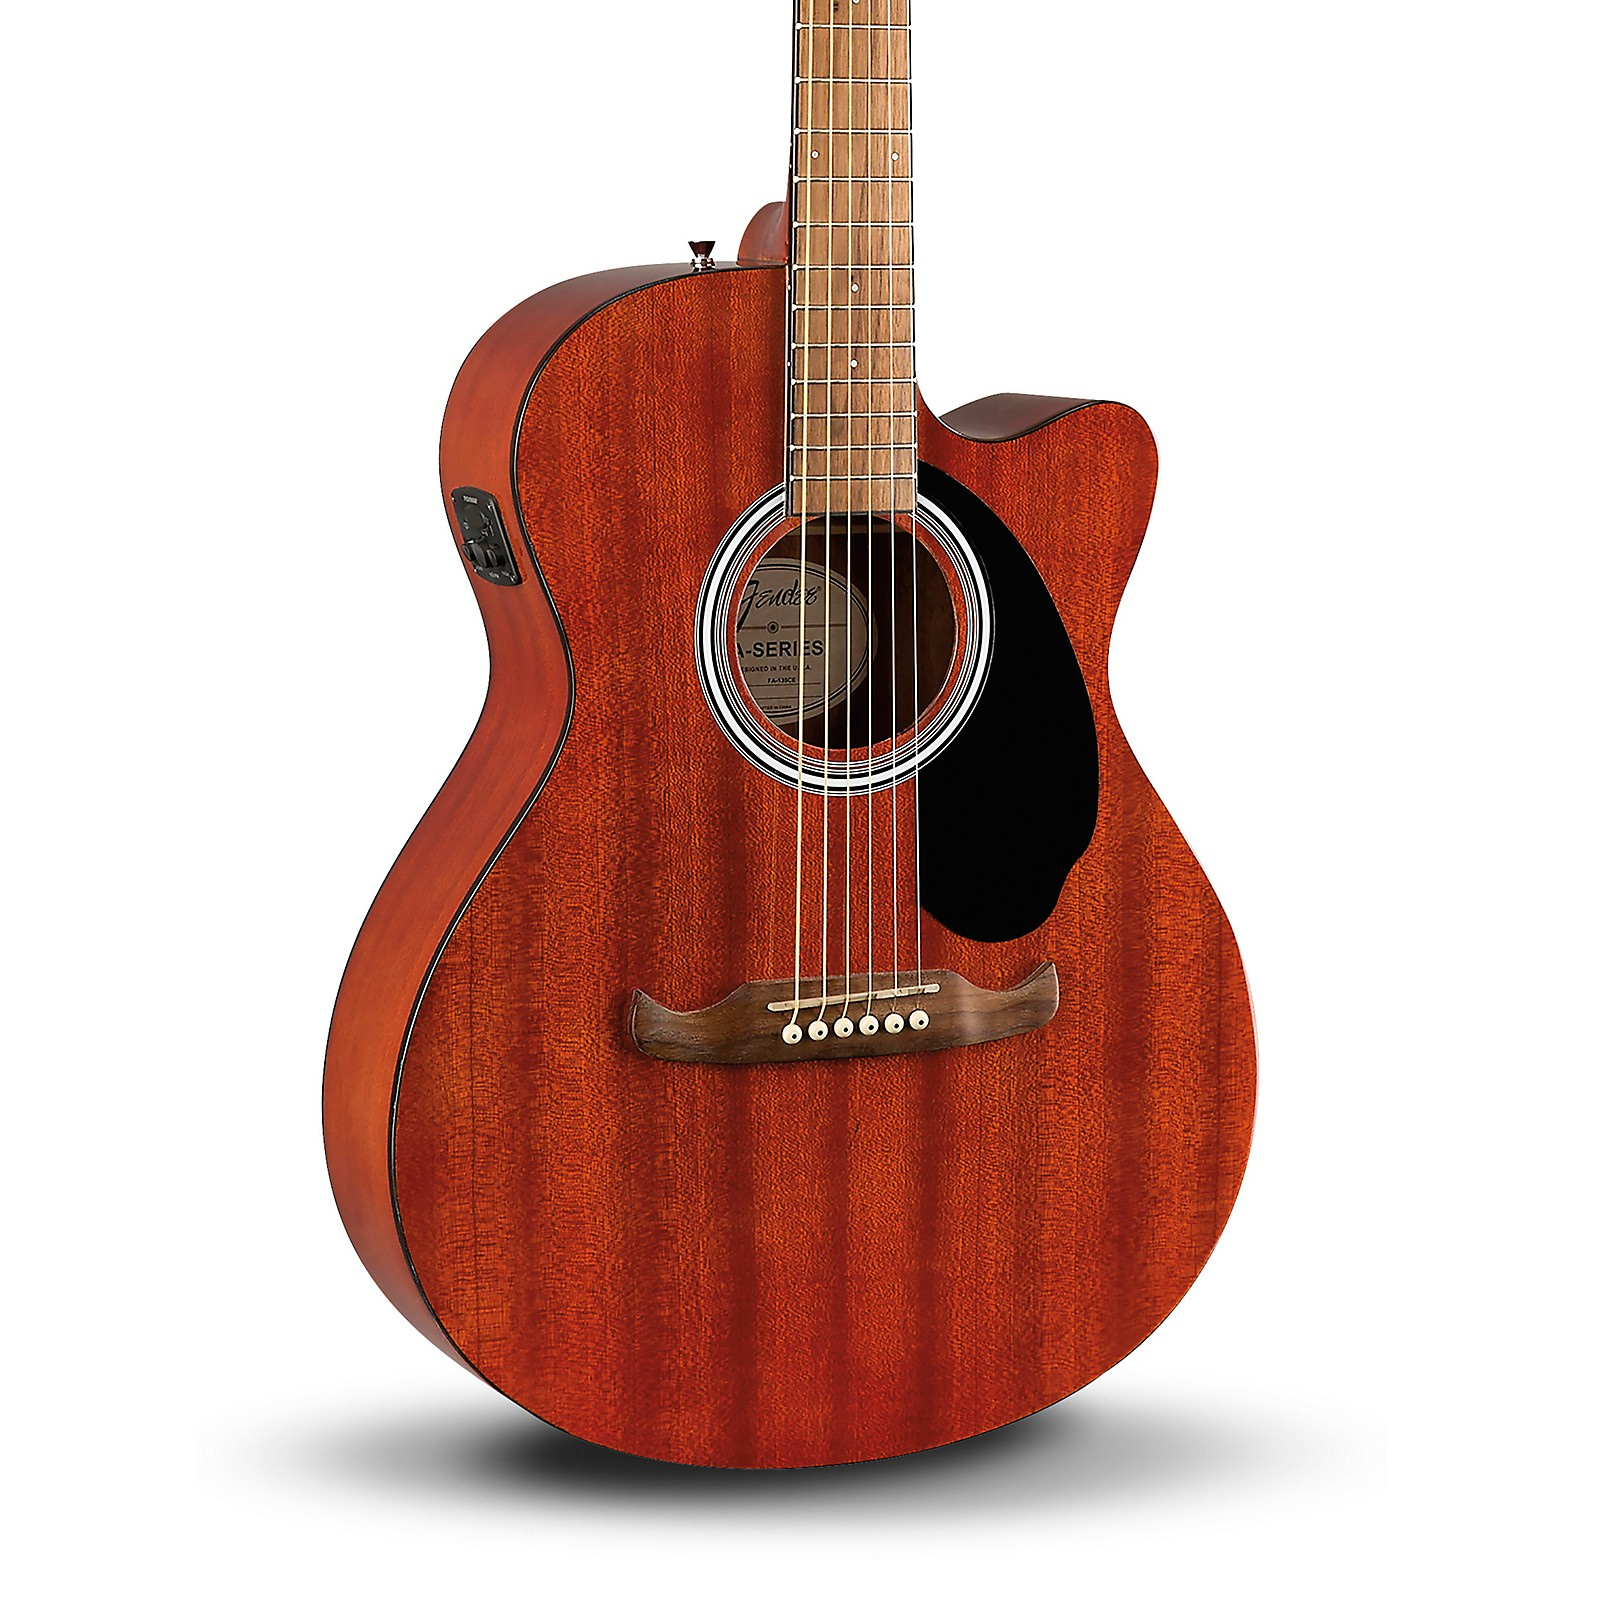guitar: (321, 202, 1247, 1508)
